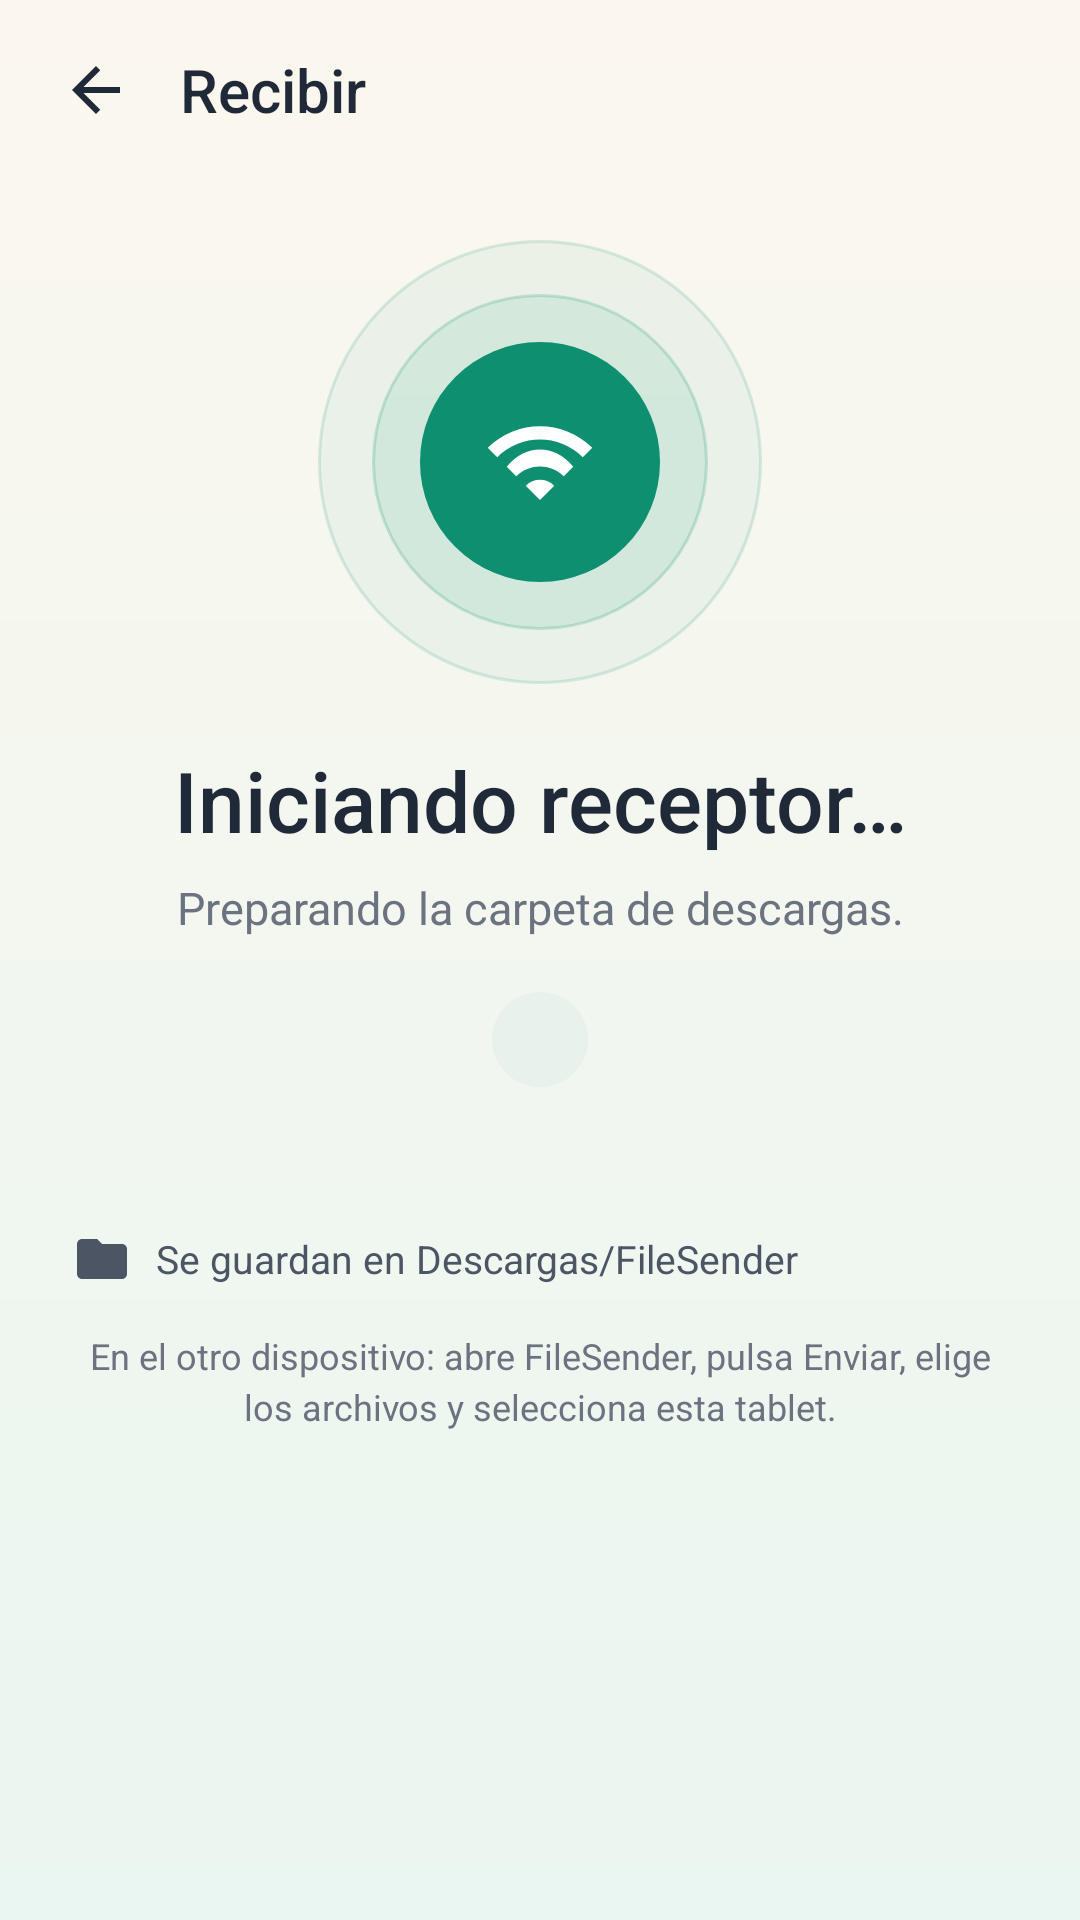

Screen size 1080*1920. Icon name, then its box in pixels as box=[x1, y1, x2, y2]:
folder: box=[77, 1239, 127, 1279]
Volver: box=[72, 66, 120, 114]
wifi: box=[488, 426, 592, 500]
